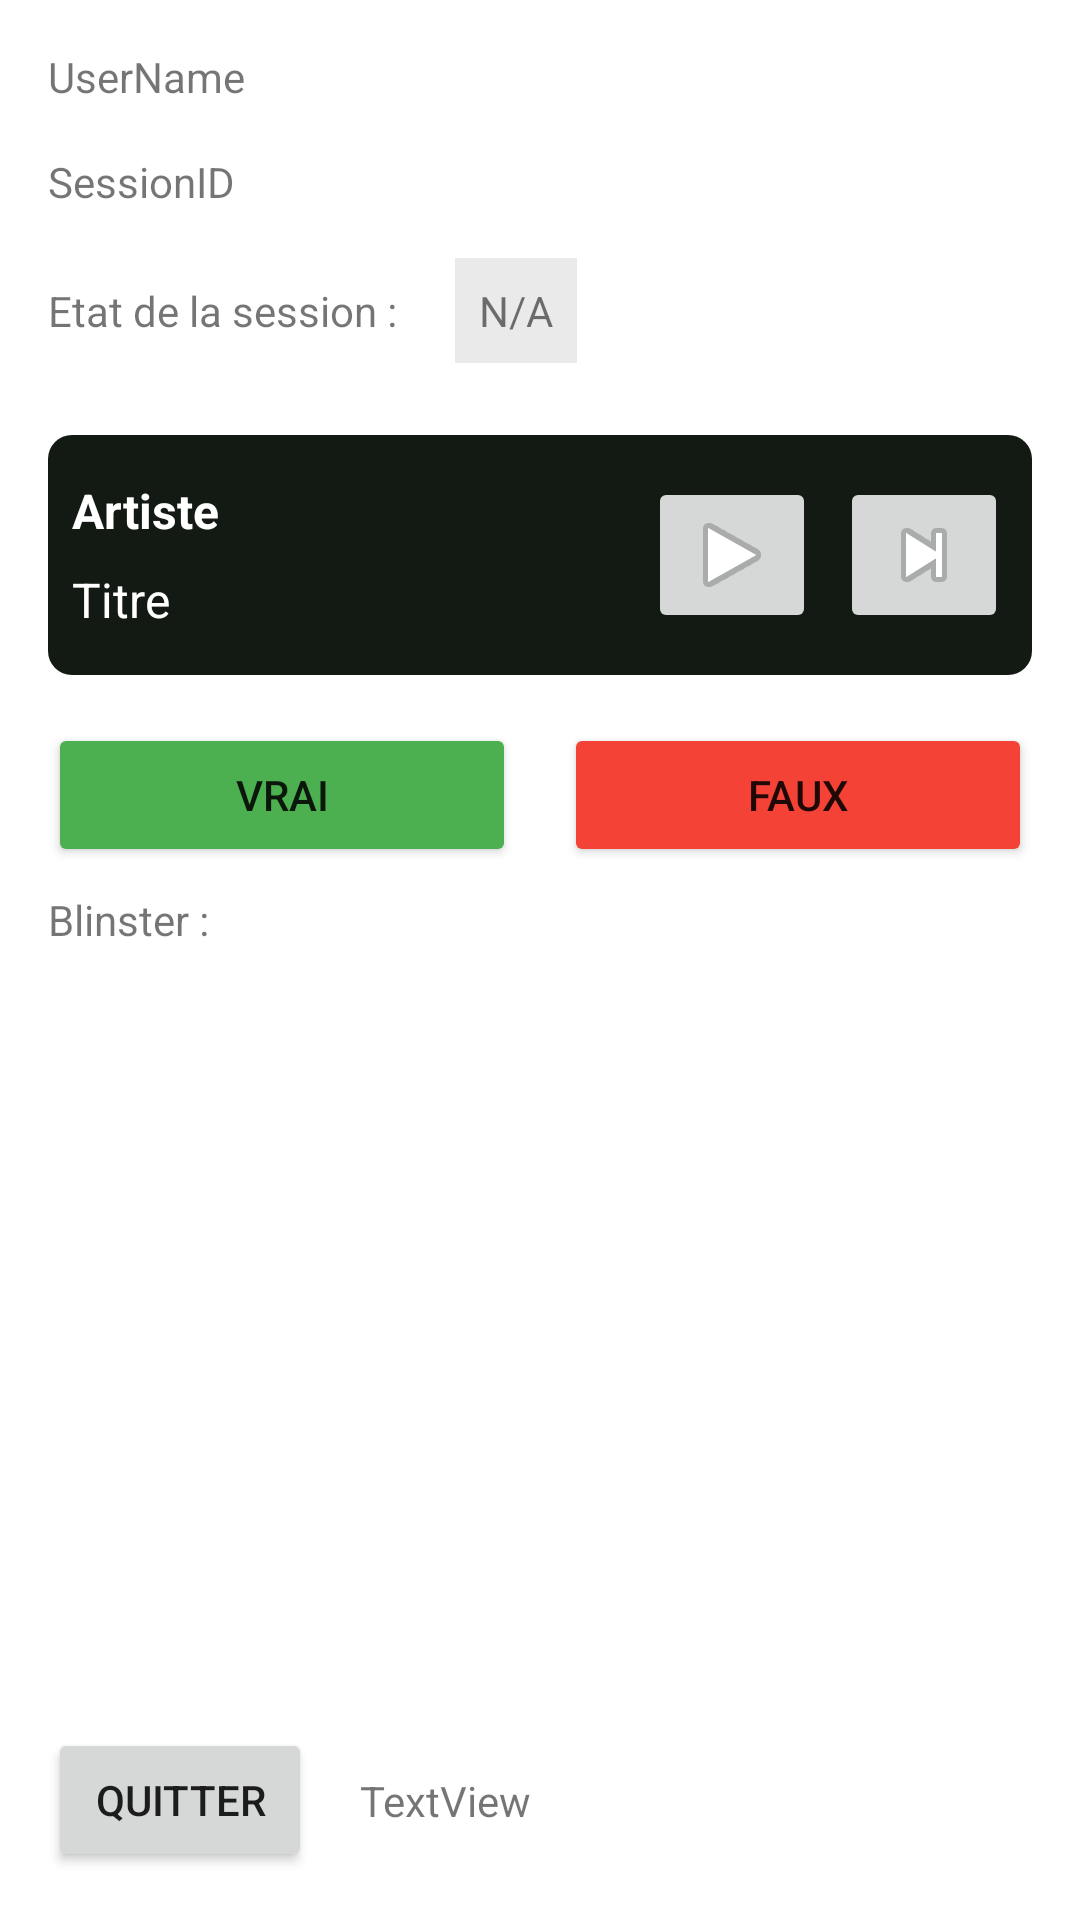

Where to tap for icons on this 1080px x 1920px app screen, as (x,y):
next: (924,555)
play: (732,555)
